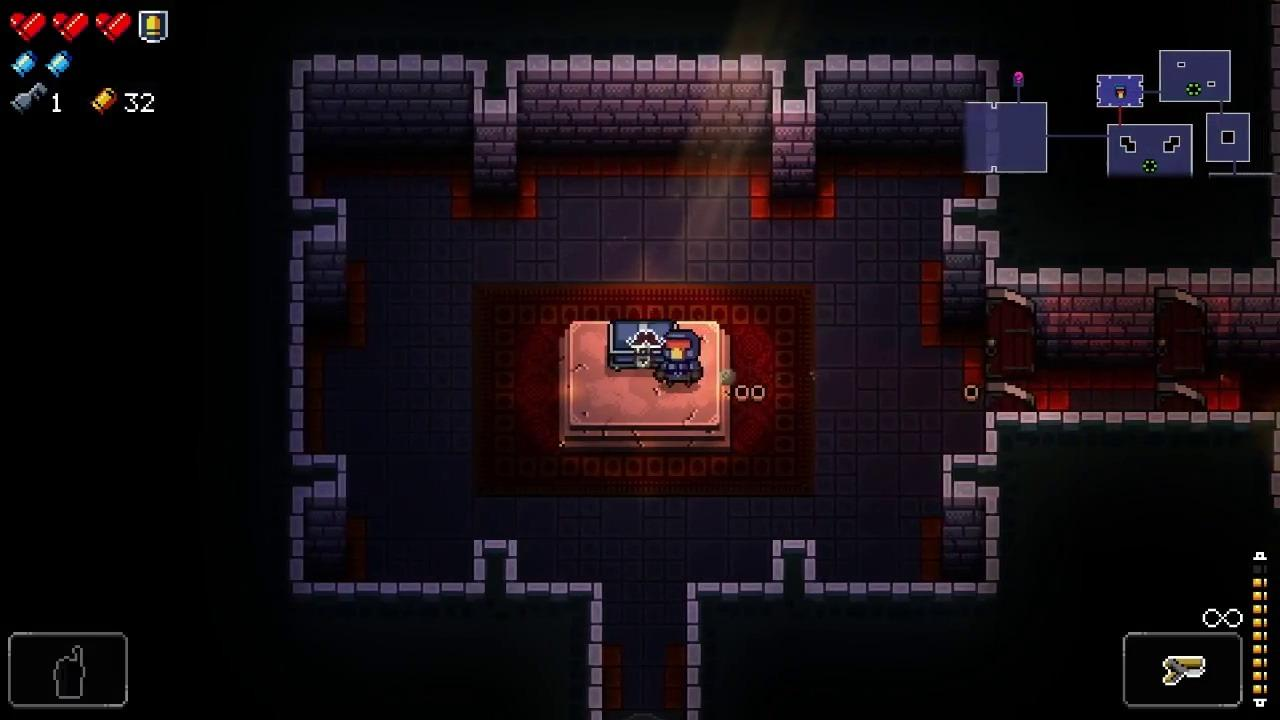blue_chest: (608, 319, 675, 370)
player: (657, 329, 703, 390)
unlocked_door: (1156, 285, 1208, 413), (987, 286, 1036, 413)
